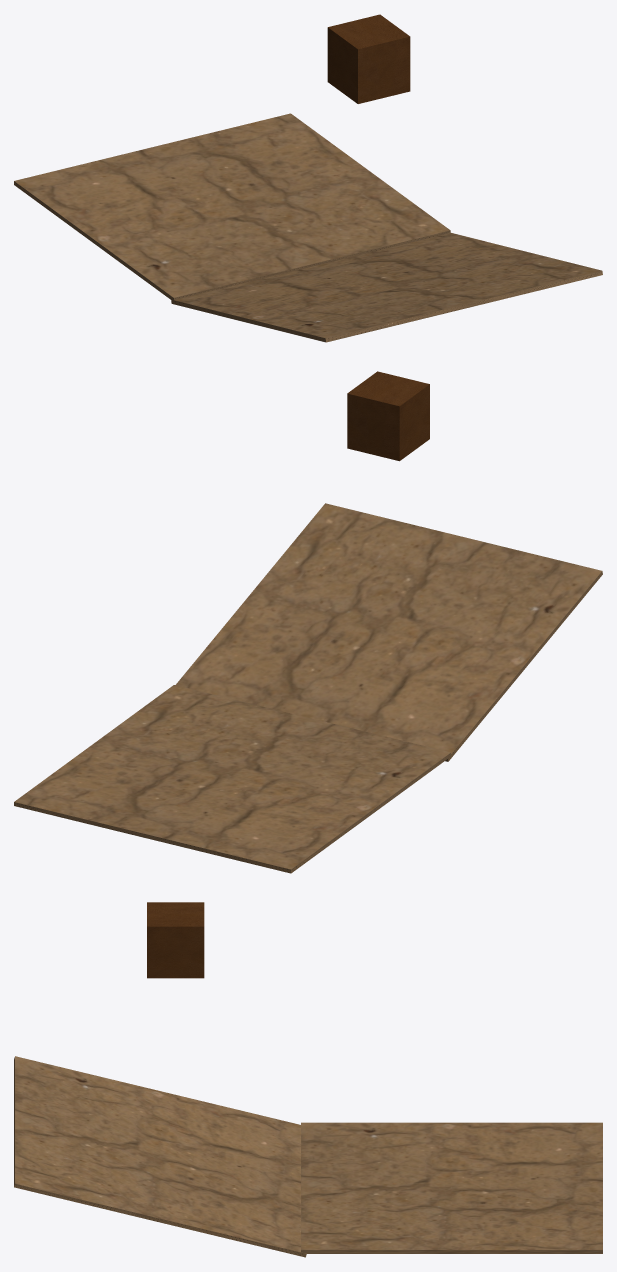
The model's file is game.glb.
3 views of the same model, one above another, from view 1: azimuth 30°, elevation 25°; view 2: azimuth 150°, elevation 25°; view 3: azimuth 270°, elevation 25° (orthographic). The views are drawn at different scales.
Parts seen in each view (by area): view 1: ground.002, ground.001, player; view 2: ground.001, ground.002, player; view 3: ground.002, ground.001, player.
Boxes of the visible parts, x1,y1,x2,y2 form: ground.002: (14,113,450,301); ground.001: (171,233,602,342); player: (327,14,410,103); ground.001: (175,503,602,761); ground.002: (14,685,450,873); player: (347,371,429,461); ground.002: (301,1122,602,1253); ground.001: (14,1056,306,1257); player: (147,902,204,978).
Bounding box in the file's own units: 3.68 × 3.7 × 7.18.
2 materials, 2 textured.
